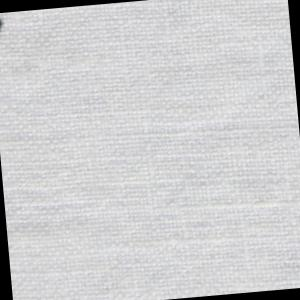Stain: (1, 13, 8, 41)
